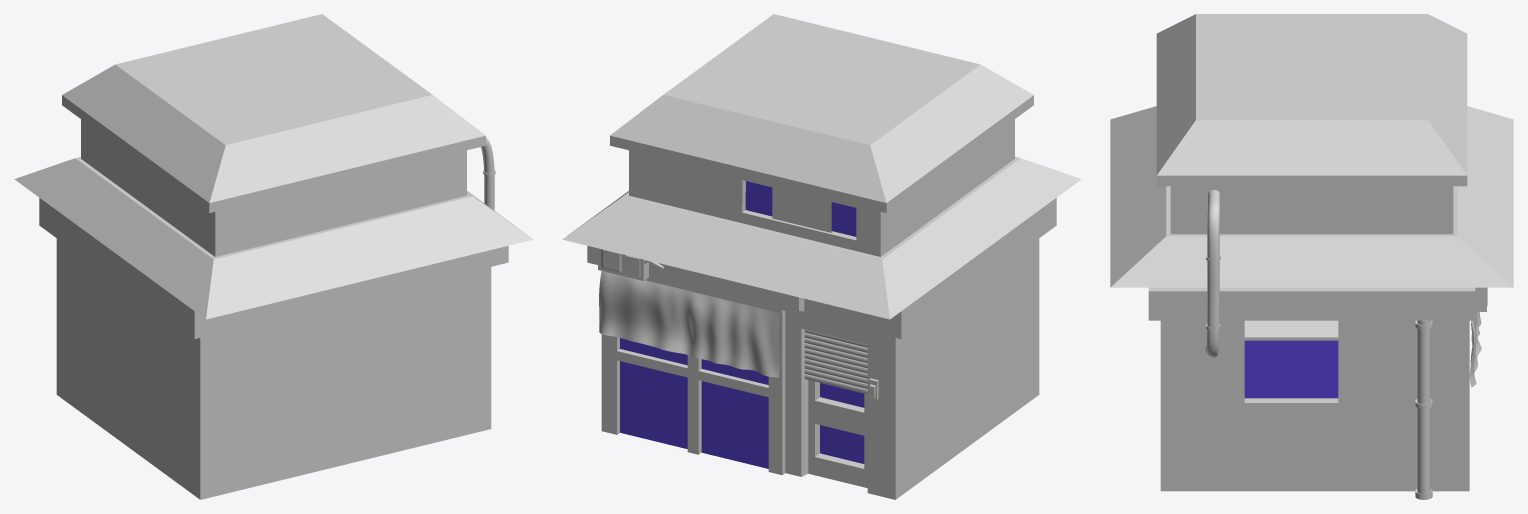
Rendered from JapaneseBodega_low.fbx.
3 views of the same model, side by side, from view 1: azimuth 30°, elevation 25°; view 2: azimuth 150°, elevation 25°; view 3: azimuth 270°, elevation 25° (orthographic). The views are drawn at different scales.
Visible parts, largest first — view 1: Cube.003; view 2: Cube.003; view 3: Cube.003.
Part boxes in pixels (x1,y1,x2,y2): Cube.003: (14,14,533,499); Cube.003: (562,14,1081,499); Cube.003: (1110,14,1513,499).
Size of the model in its own units: 405 by 381 by 397.
